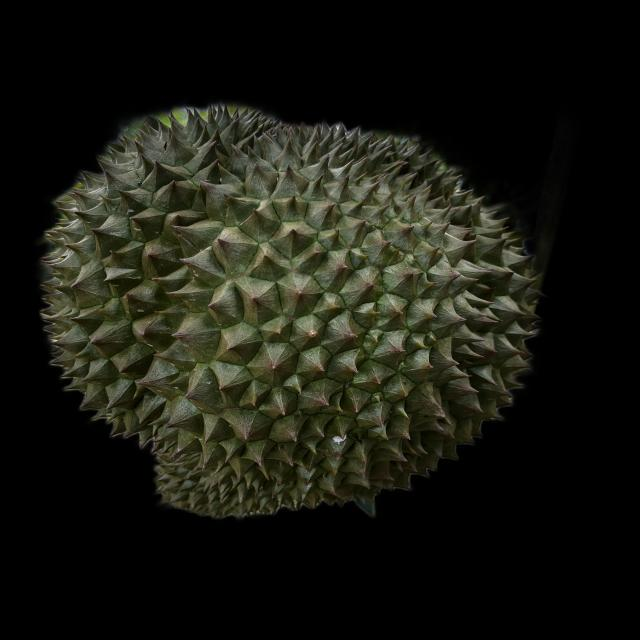immature: (45, 105, 536, 521)
